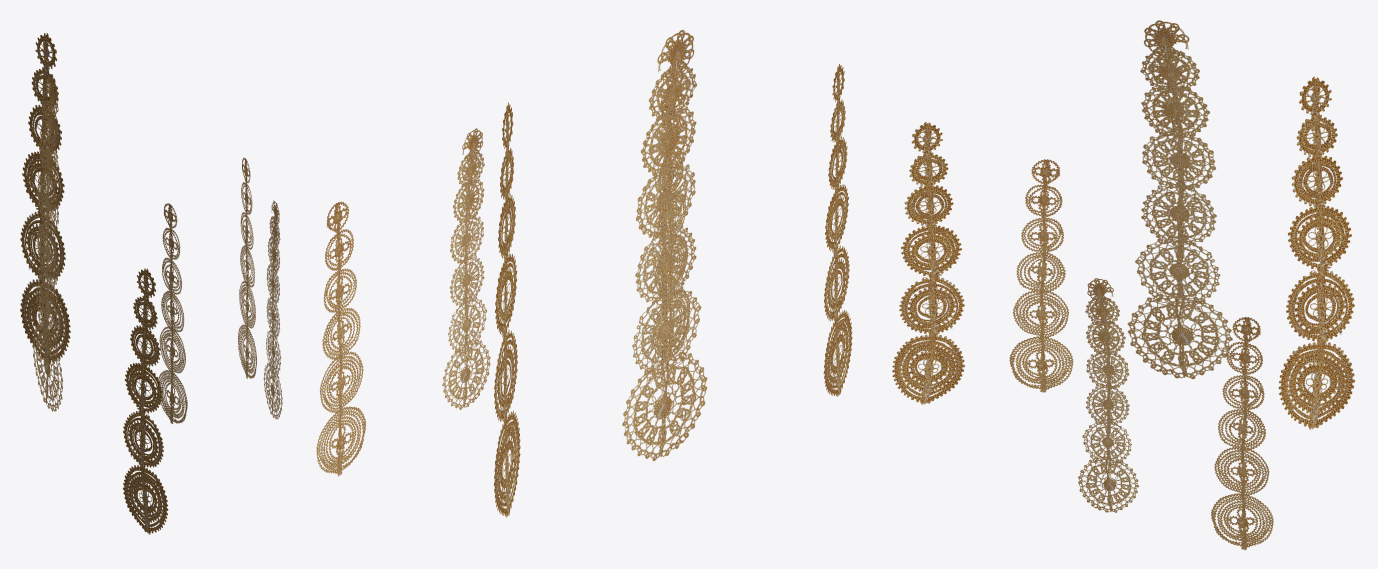
The model's file is Wachstum_kleinedateien.gltf.
3 views of the same model, side by side, from view 1: azimuth 30°, elevation 25°; view 2: azimuth 150°, elevation 25°; view 3: azimuth 270°, elevation 25° (orthographic). The views are drawn at different scales.
Visible parts, largest first — view 1: KS5_1291-2_freigestellt_klein, KS5_1291-2_freigestellt_klein.001, KS5_1291-3_Freigestellt_web_klein, KS5_1291_freigestellt_web_klein, KS5_1291-3_Freigestellt_web_klein.001, KS5_1291_freigestellt_web_klein.001; view 2: KS5_1291-3_Freigestellt_web_klein, KS5_1291-3_Freigestellt_web_klein.001, KS5_1291_freigestellt_web_klein.001, KS5_1291-2_freigestellt_klein, KS5_1291-2_freigestellt_klein.001, KS5_1291_freigestellt_web_klein; view 3: KS5_1291-3_Freigestellt_web_klein, KS5_1291-2_freigestellt_klein, KS5_1291-2_freigestellt_klein.001, KS5_1291_freigestellt_web_klein, KS5_1291-3_Freigestellt_web_klein.001, KS5_1291_freigestellt_web_klein.001.
Part boxes in pixels (x1,y1,x2,y2): KS5_1291-2_freigestellt_klein: (20, 33, 70, 364); KS5_1291-2_freigestellt_klein.001: (123, 268, 168, 534); KS5_1291-3_Freigestellt_web_klein: (32, 76, 62, 411); KS5_1291_freigestellt_web_klein: (158, 203, 187, 423); KS5_1291-3_Freigestellt_web_klein.001: (263, 200, 282, 419); KS5_1291_freigestellt_web_klein.001: (238, 157, 256, 378); KS5_1291-3_Freigestellt_web_klein: (622, 30, 707, 461); KS5_1291-3_Freigestellt_web_klein.001: (442, 128, 490, 409); KS5_1291_freigestellt_web_klein.001: (316, 201, 365, 476); KS5_1291-2_freigestellt_klein: (494, 102, 520, 517); KS5_1291-2_freigestellt_klein.001: (823, 64, 852, 396); KS5_1291_freigestellt_web_klein: (652, 86, 690, 358); KS5_1291-3_Freigestellt_web_klein: (1127, 20, 1232, 378); KS5_1291-2_freigestellt_klein: (1278, 76, 1354, 429); KS5_1291-2_freigestellt_klein.001: (892, 122, 964, 404); KS5_1291_freigestellt_web_klein: (1009, 159, 1073, 392); KS5_1291-3_Freigestellt_web_klein.001: (1078, 278, 1138, 512); KS5_1291_freigestellt_web_klein.001: (1211, 317, 1273, 550).
Size of the model in its own units: 1.24 by 1.75 by 1.84.
Materials: 6 (6 with a texture image).
